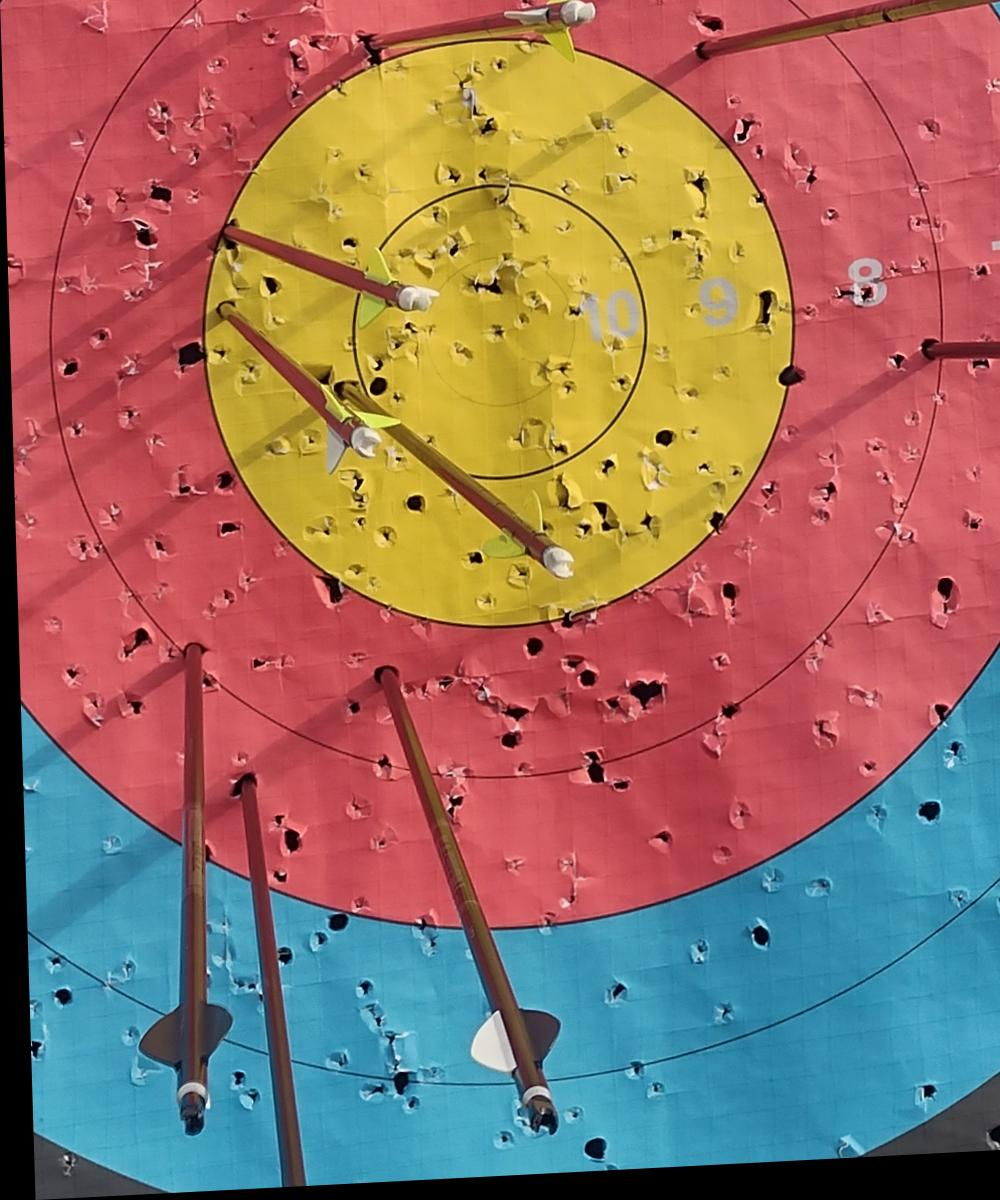10-Ring: (352, 191, 645, 486)
7-Ring: (0, 0, 1000, 934)
8-Ring: (45, 0, 940, 785)
9-Ring: (189, 34, 805, 645)
Arrow: (303, 671, 595, 1157), (304, 385, 597, 603), (131, 647, 235, 1138), (175, 302, 399, 494), (221, 173, 439, 362), (226, 782, 299, 1192), (370, 0, 595, 70)
